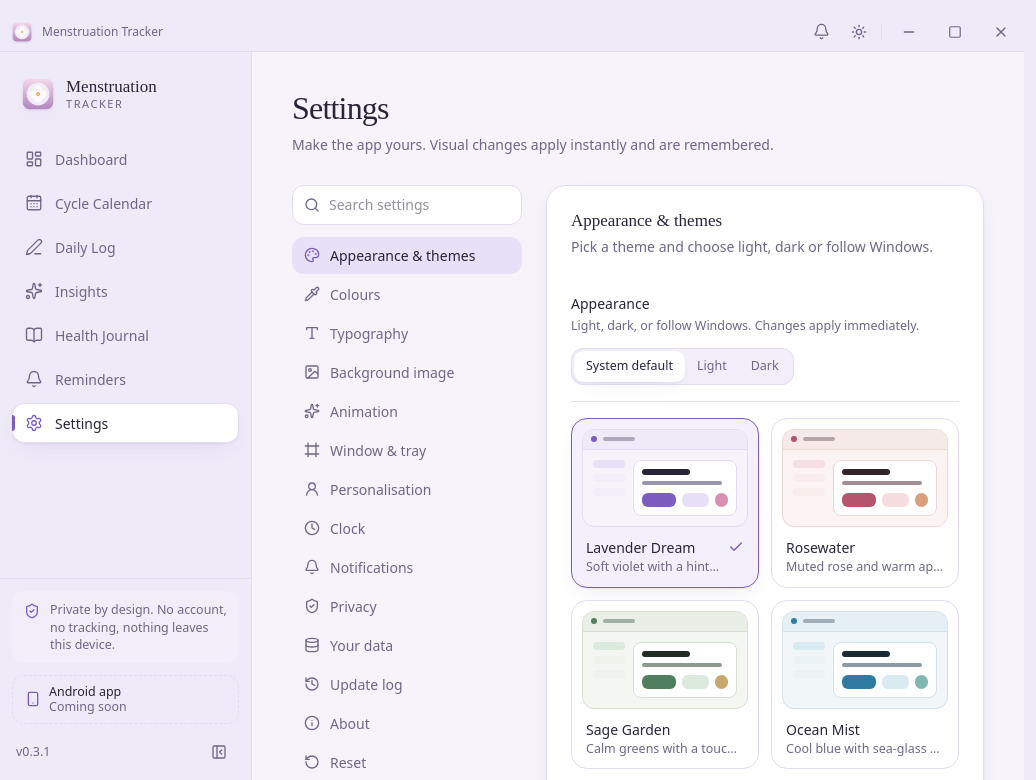
Test: application shell › filters settings with the search box
Type "tray" into the search field labelled "Search settings" at coordinates (407, 205), box [292,185,522,225]
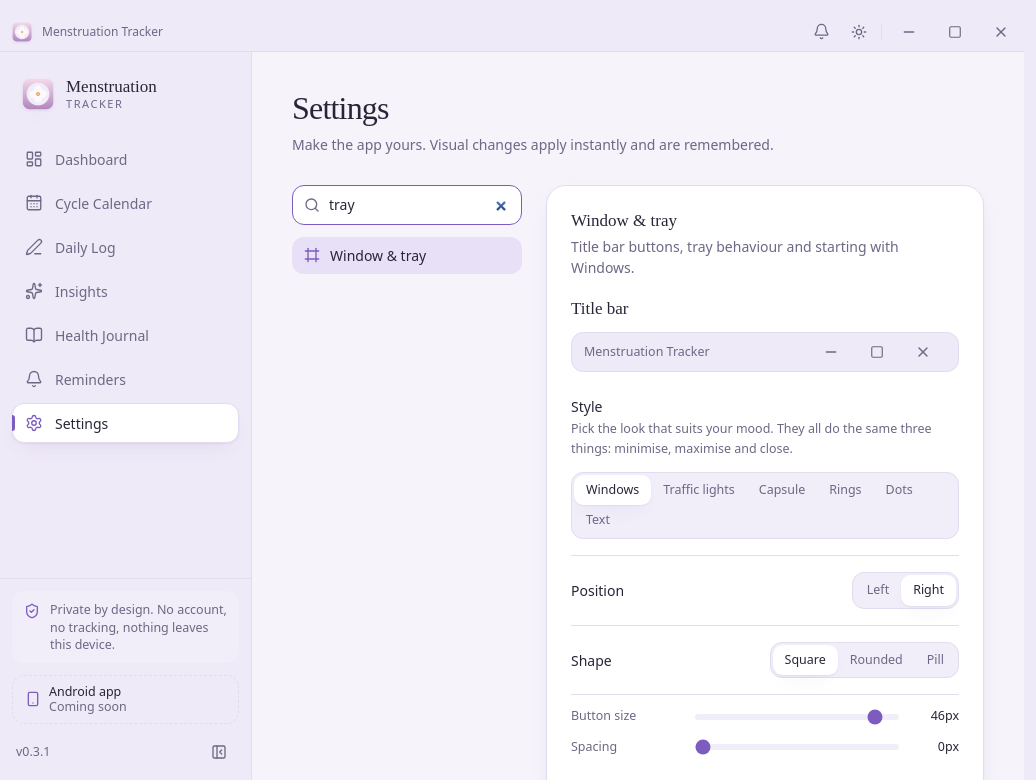
Expected: the button "Window & tray" is shown, [292,237,522,274]
Result: the button "Colours" is gone
